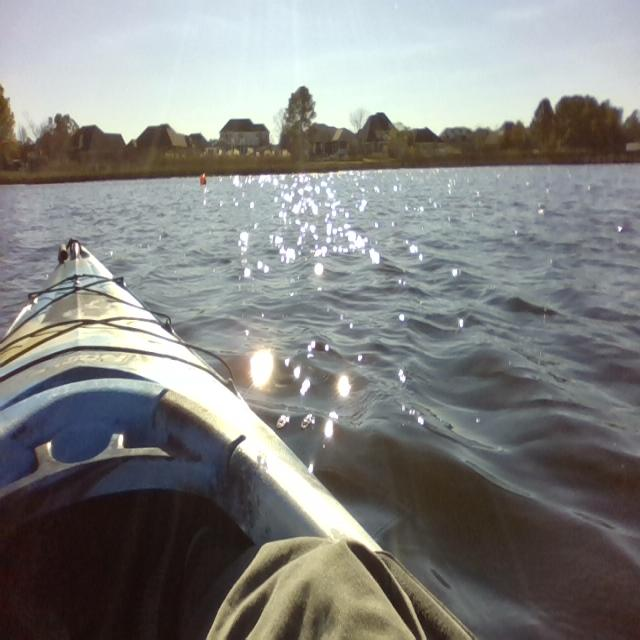Buoy: (197, 168, 210, 188)
